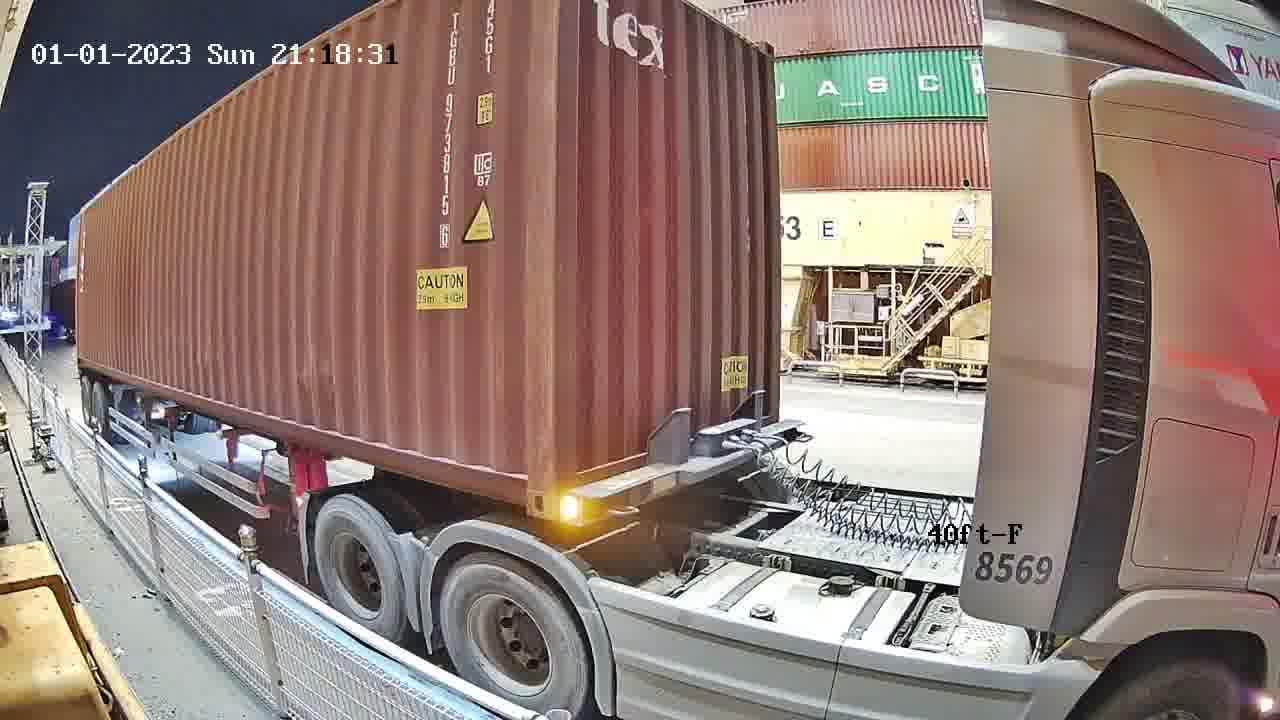Chassis: (560, 422, 804, 525)
Hole_R: (482, 440, 558, 519)
Tire: (438, 555, 588, 713), (315, 497, 404, 632)
